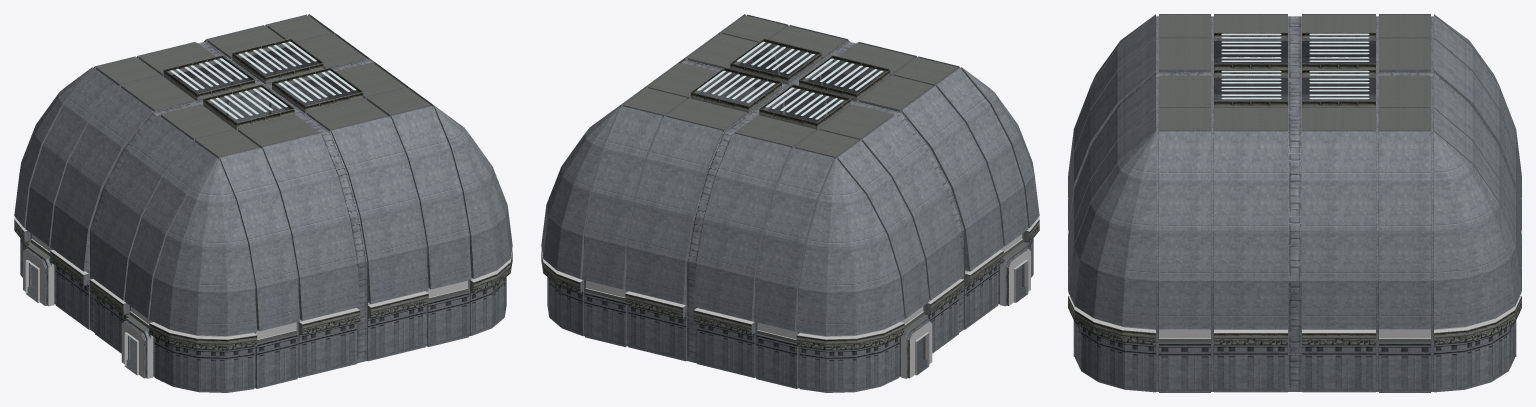
The model's file is poi_all_impl_bunker_warren_s01_r50_bigroom50_mesh_r50.fbx.
The picture shows the model from 3 angles, left to right: view 1: azimuth 30°, elevation 25°; view 2: azimuth 150°, elevation 25°; view 3: azimuth 270°, elevation 25°; orthographic projection. The views are drawn at different scales.
Parts seen in each view (by area): view 1: mesh_node; view 2: mesh_node; view 3: mesh_node.
Part boxes in pixels (x1,y1,x2,y2): mesh_node: (14, 14, 512, 392); mesh_node: (541, 14, 1039, 392); mesh_node: (1068, 14, 1521, 392).
Size of the model in its own units: 33.5 by 18.7 by 33.
